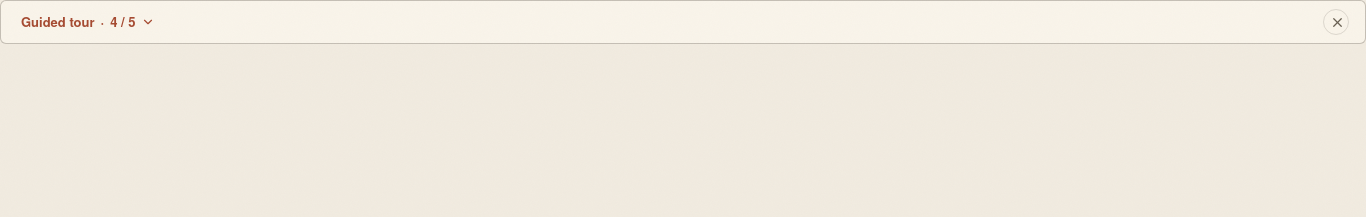
Test case: first-run tour › resumes from the saved step after a relaunch
Click the button "Guided tour · 4 / 5" at coordinates (88, 22), box [17,5,160,39]
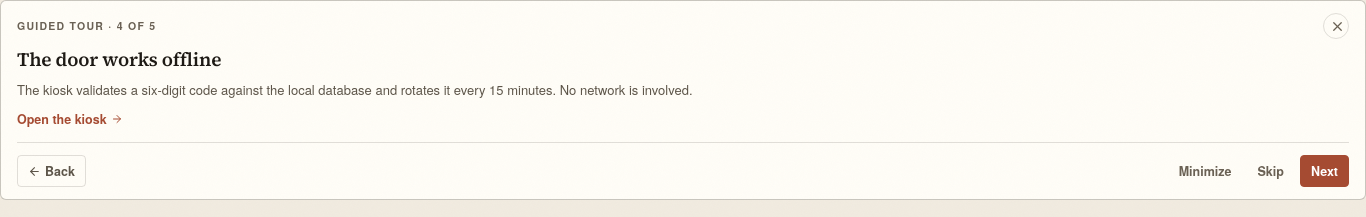
Expected: the heading "The door works offline" is shown, [17,46,221,72]
Expected: the text "Guided tour · 4 of 5" is shown, [17,18,156,34]
